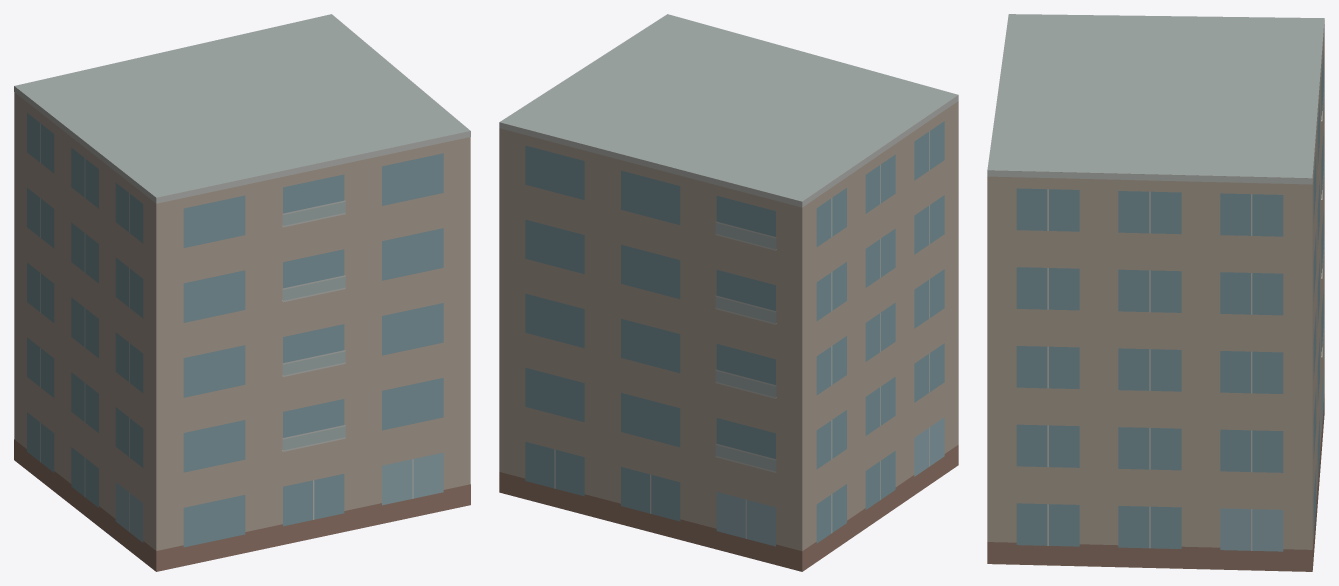
File: survey-upis-32891221.glb
The picture shows the model from 3 angles, left to right: view 1: azimuth 30°, elevation 25°; view 2: azimuth 150°, elevation 25°; view 3: azimuth 270°, elevation 25°; orthographic projection. The views are drawn at different scales.
Visible parts, largest first — view 1: survey-upis-32891221.tmp; view 2: survey-upis-32891221.tmp; view 3: survey-upis-32891221.tmp.
Part boxes in pixels (x1,y1,x2,y2): survey-upis-32891221.tmp: (14,14,470,571); survey-upis-32891221.tmp: (499,14,958,571); survey-upis-32891221.tmp: (987,14,1324,571).
Bounding box in the file's own units: 13.7 × 15.3 × 11.89.
